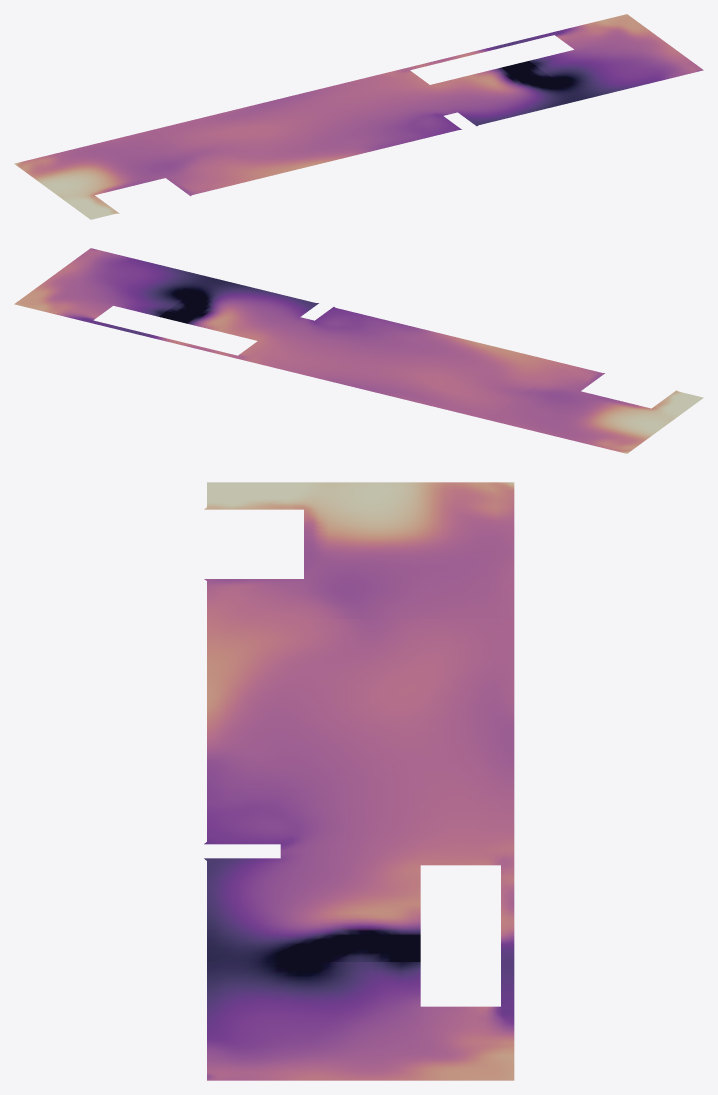
Rendered from fpm_m0_coarse_age_z1.10.glb.
The picture shows the model from 3 angles, top to bottom: view 1: azimuth 30°, elevation 25°; view 2: azimuth 150°, elevation 25°; view 3: azimuth 270°, elevation 25°; orthographic projection. The views are drawn at different scales.
Parts seen in each view (by area): view 1: geometry_0; view 2: geometry_0; view 3: geometry_0.
Part boxes in pixels (bbox=[...]): geometry_0: bbox=[14, 14, 703, 219]; geometry_0: bbox=[14, 248, 703, 453]; geometry_0: bbox=[204, 482, 514, 1080].
Bounding box in the file's own units: 10.77 × 0 × 2.36.
